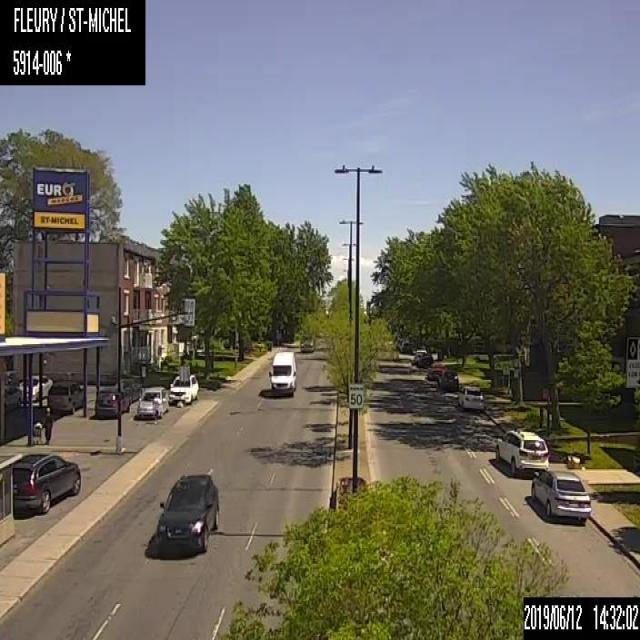pedestrian: (43, 404, 54, 444), (152, 394, 161, 426)
vehicle: (156, 470, 219, 554), (5, 450, 82, 517), (530, 467, 591, 524), (494, 426, 549, 476), (267, 348, 297, 395), (47, 378, 82, 414), (93, 387, 130, 418), (166, 373, 198, 406), (17, 372, 52, 402), (135, 385, 168, 416), (456, 384, 485, 409), (437, 369, 460, 393), (426, 362, 448, 381), (299, 333, 315, 353), (416, 351, 434, 366)
